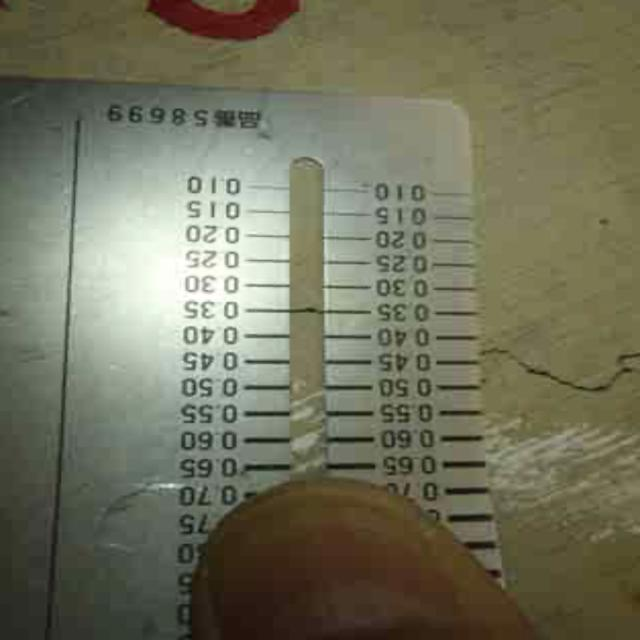crack: (480, 323, 637, 407)
